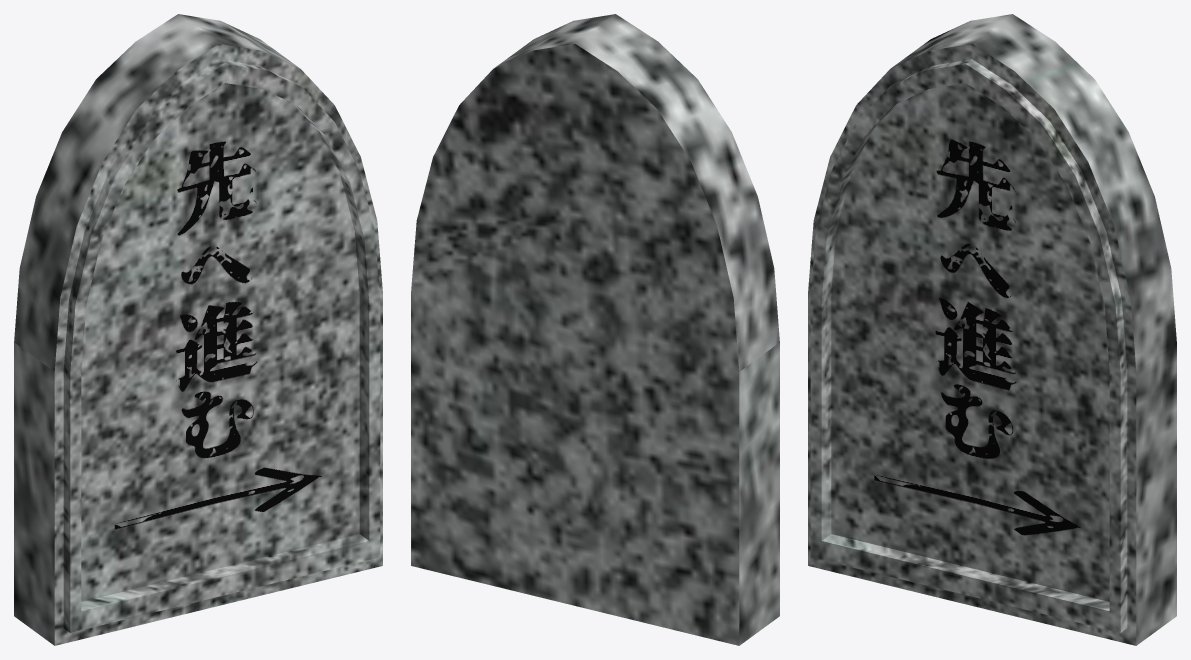
The model's file is sekihi.fbx.
3 views of the same model, side by side, from view 1: azimuth 30°, elevation 25°; view 2: azimuth 150°, elevation 25°; view 3: azimuth 330°, elevation 25° (orthographic).
Parts seen in each view (by area): view 1: pCylinder1; view 2: pCylinder1; view 3: pCylinder1.
Boxes of the visible parts, box(x1,y1,x2,y2) form: pCylinder1: box(14, 14, 382, 645); pCylinder1: box(411, 14, 779, 645); pCylinder1: box(808, 14, 1176, 645).
Bounding box in the file's own units: 10 × 16.37 × 2.49.
1 material, 1 textured.
